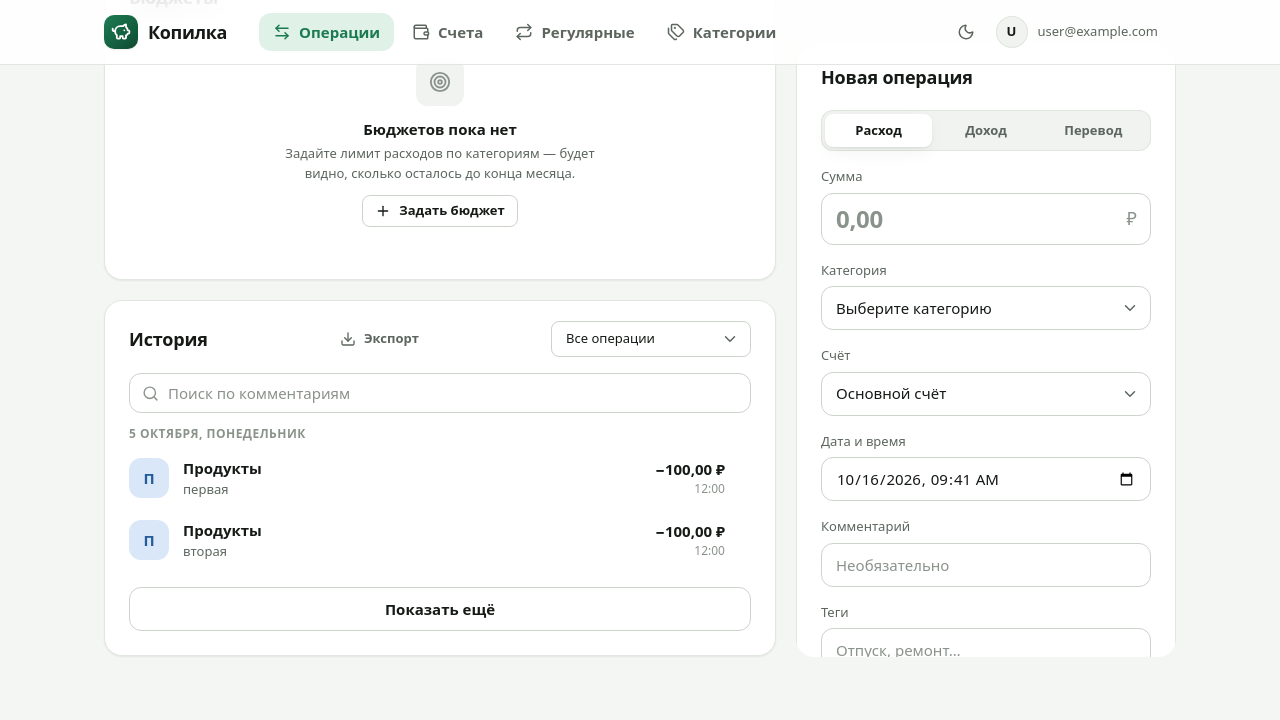
Test case: TransactionList › loads the next page with the cursor of the previous one
(page scrolled)
Check: the text "первая" is shown, box [183,480,228,498]
Click the button "Показать ещё".
click(440, 609)  # box [129,587,751,631]
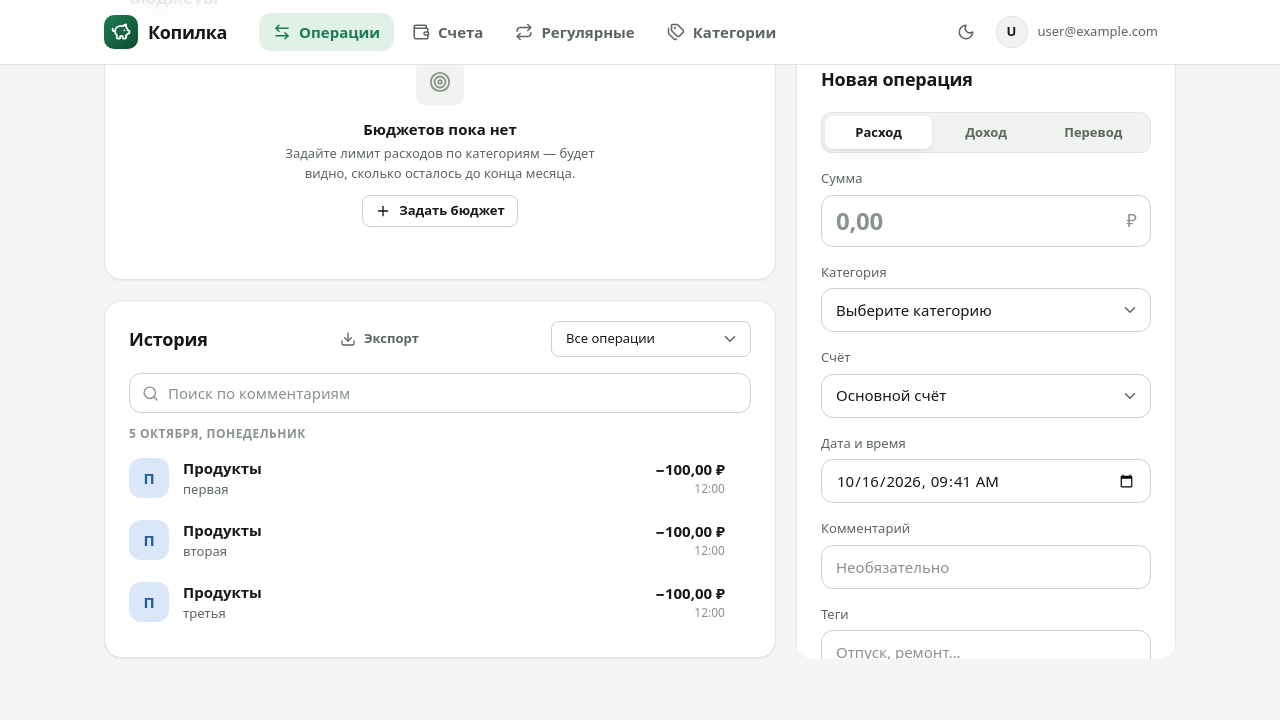
Check: the text "первая" is shown, box [183,480,228,498]
Check: the text "третья" is shown, box [183,604,226,622]
Check: the button "Показать ещё" is gone
